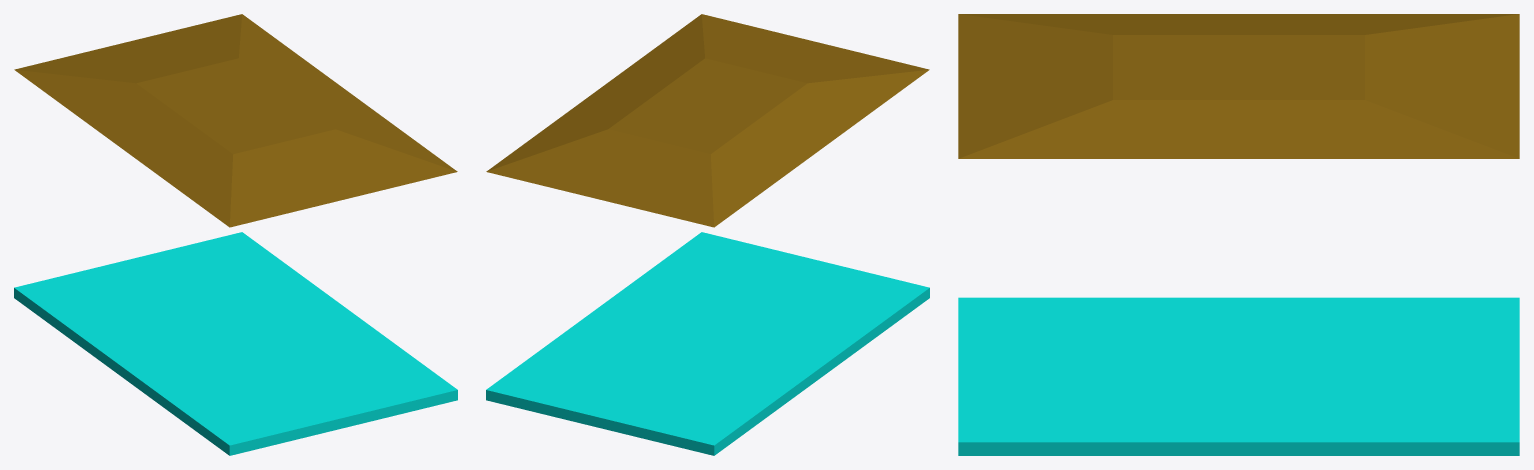
The model's file is Environment_Attachment_Balcony_B.fbx.
3 views of the same model, side by side, from view 1: azimuth 30°, elevation 25°; view 2: azimuth 150°, elevation 25°; view 3: azimuth 270°, elevation 25° (orthographic). The views are drawn at different scales.
Parts seen in each view (by area): view 1: Environment_Attachment_Balcony_B; view 2: Environment_Attachment_Balcony_B; view 3: Environment_Attachment_Balcony_B.
Part boxes in pixels (bbox=[...]): Environment_Attachment_Balcony_B: bbox=[14, 14, 457, 455]; Environment_Attachment_Balcony_B: bbox=[486, 14, 929, 455]; Environment_Attachment_Balcony_B: bbox=[958, 14, 1519, 455].
Bounding box in the file's own units: 0.8495 × 0.864 × 1.39.
